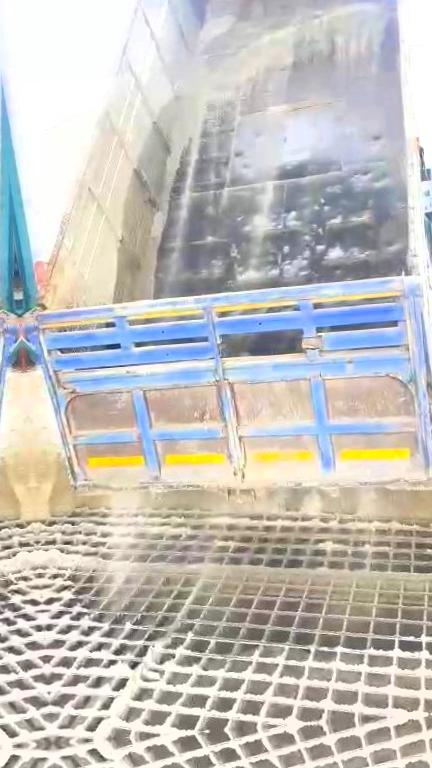sand: (129, 4, 381, 299), (39, 549, 432, 591), (29, 419, 112, 521), (95, 646, 162, 740), (110, 490, 145, 553), (205, 15, 233, 41)
